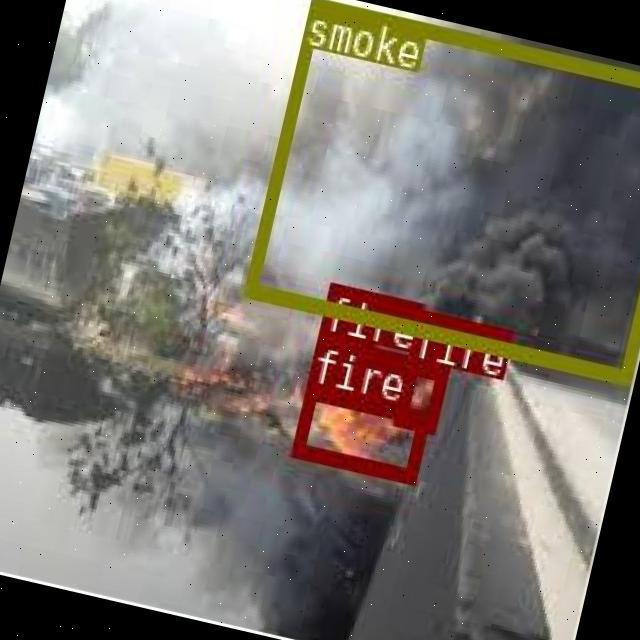fire: (291, 382, 428, 480), (392, 357, 446, 429), (308, 331, 372, 385)
smoke: (241, 0, 640, 381)
